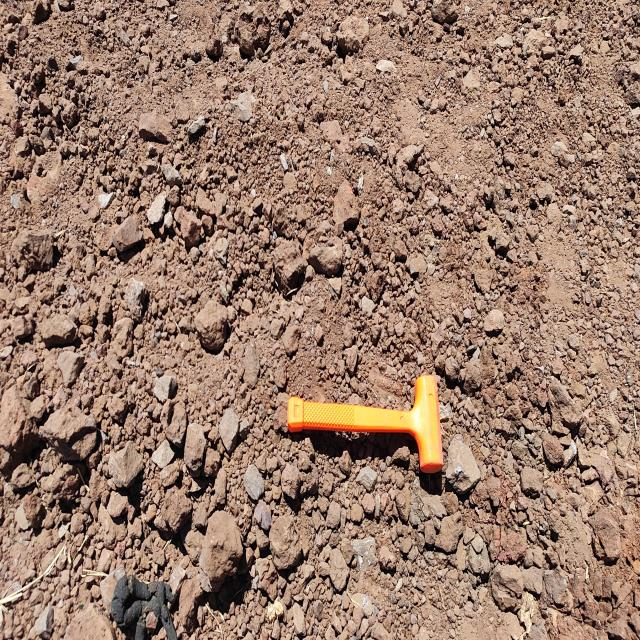Orange_hammer: (286, 372, 444, 474)
